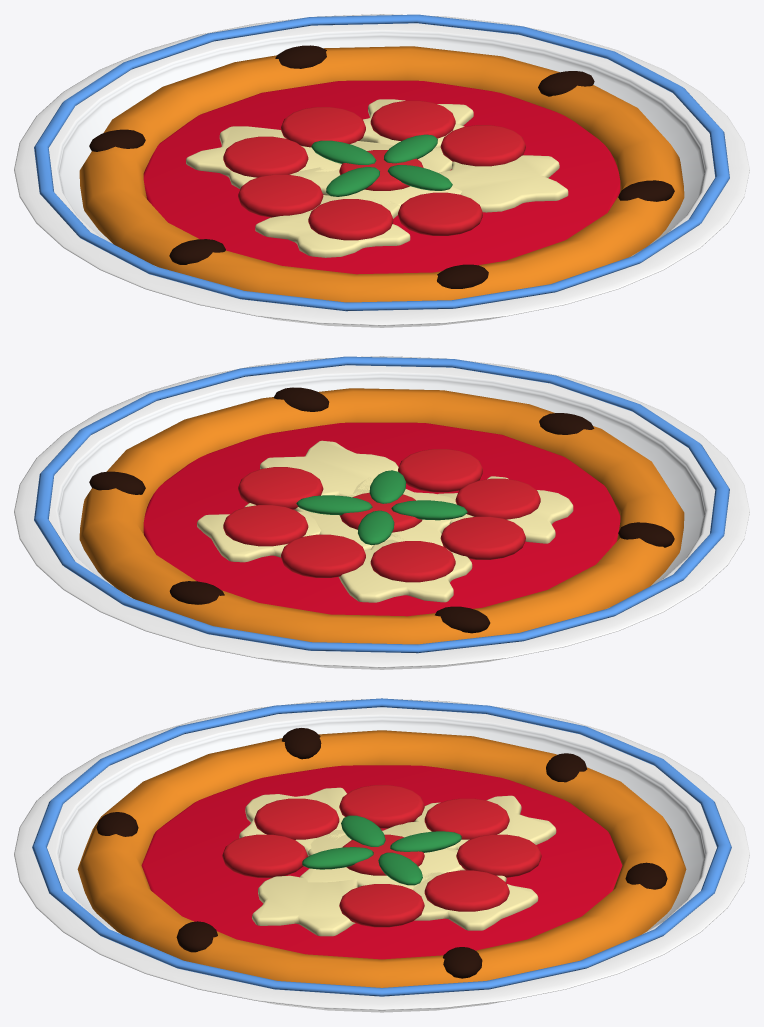
File: pizza.glb
3 renders of one model, top to bottom at view 1: azimuth 30°, elevation 25°; view 2: azimuth 150°, elevation 25°; view 3: azimuth 270°, elevation 25°, orthographic.
Visible parts, largest first — view 1: PlateBody; view 2: PlateBody; view 3: PlateBody.
Part boxes in pixels (x1,y1,x2,y2): PlateBody: (14, 14, 749, 327); PlateBody: (14, 356, 749, 669); PlateBody: (14, 698, 749, 1012).
Bounding box in the file's own units: 0.6919 × 0.0729 × 0.6919.
